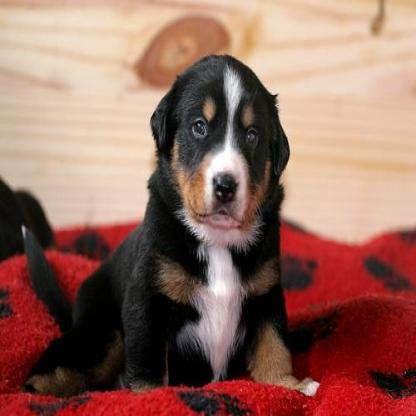Appenzeller: (20, 51, 320, 400)
